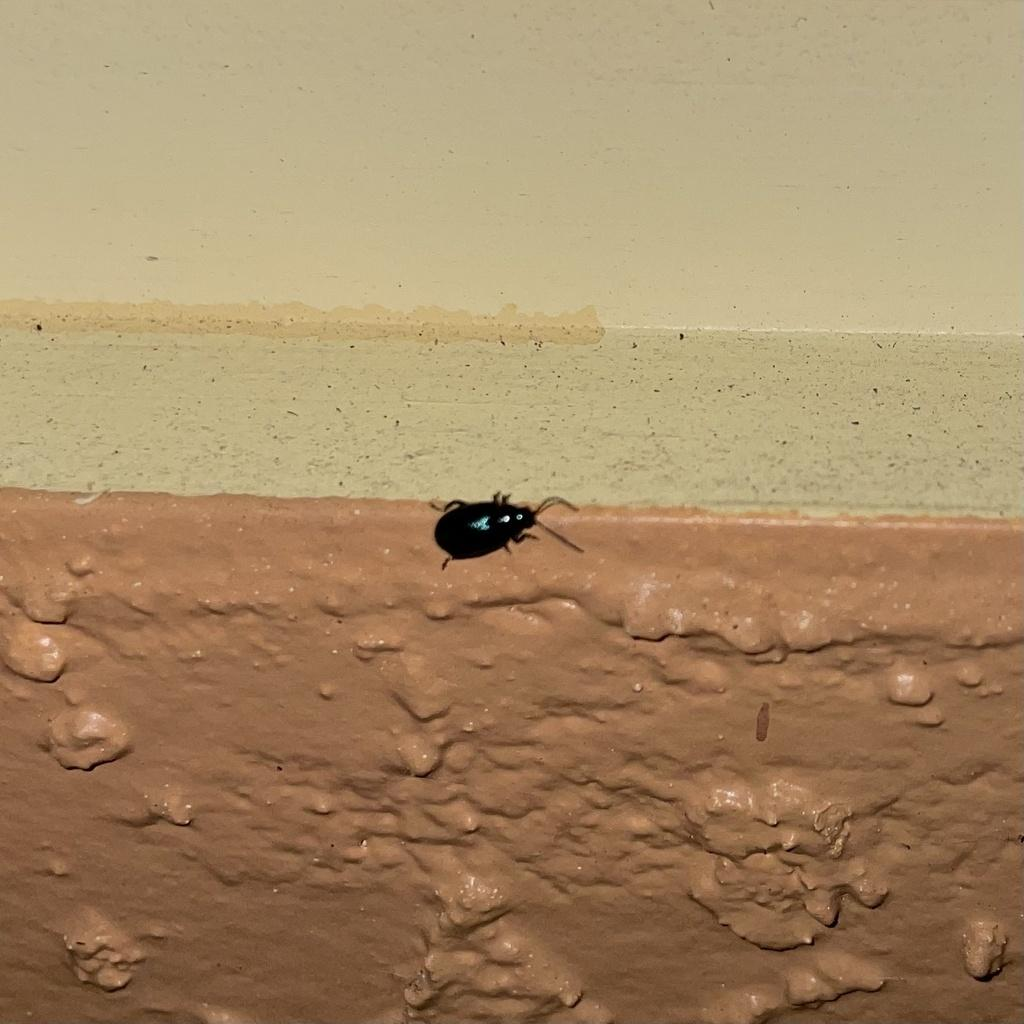flea_beetle: (394, 458, 602, 587)
